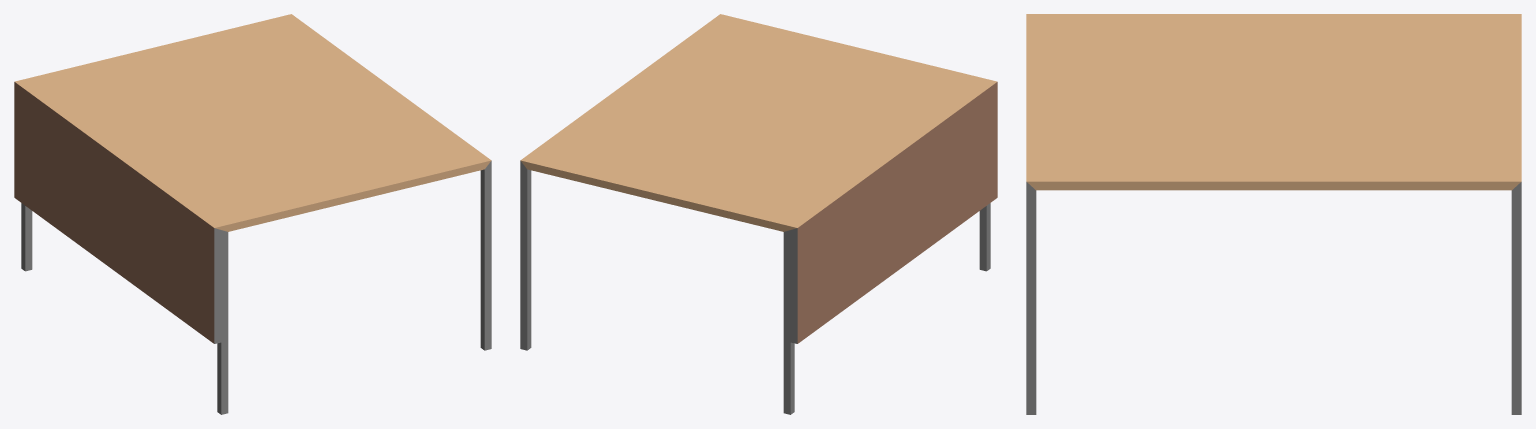
3 views of the same model, side by side, from view 1: azimuth 30°, elevation 25°; view 2: azimuth 150°, elevation 25°; view 3: azimuth 270°, elevation 25° (orthographic). The views are drawn at different scales.
Visible parts, largest first — view 1: 책상2; view 2: 책상2; view 3: 책상2.
Boxes of the visible parts, box(x1,y1,x2,y2) form: 책상2: box(14, 14, 491, 414); 책상2: box(520, 14, 997, 414); 책상2: box(1026, 14, 1521, 414).
Bounding box in the file's own units: 4000 × 2600 × 5000.
